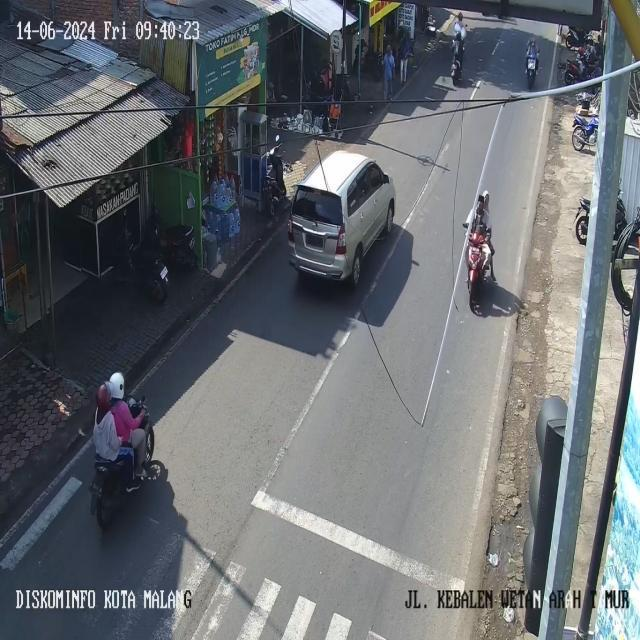Helmet: (96, 382, 111, 412), (109, 372, 124, 398), (455, 31, 461, 40), (457, 12, 462, 20)
Number Plate: (306, 234, 323, 247), (528, 59, 536, 70), (160, 267, 167, 278)
Rearview Mirror: (383, 174, 389, 183), (275, 134, 279, 142)
